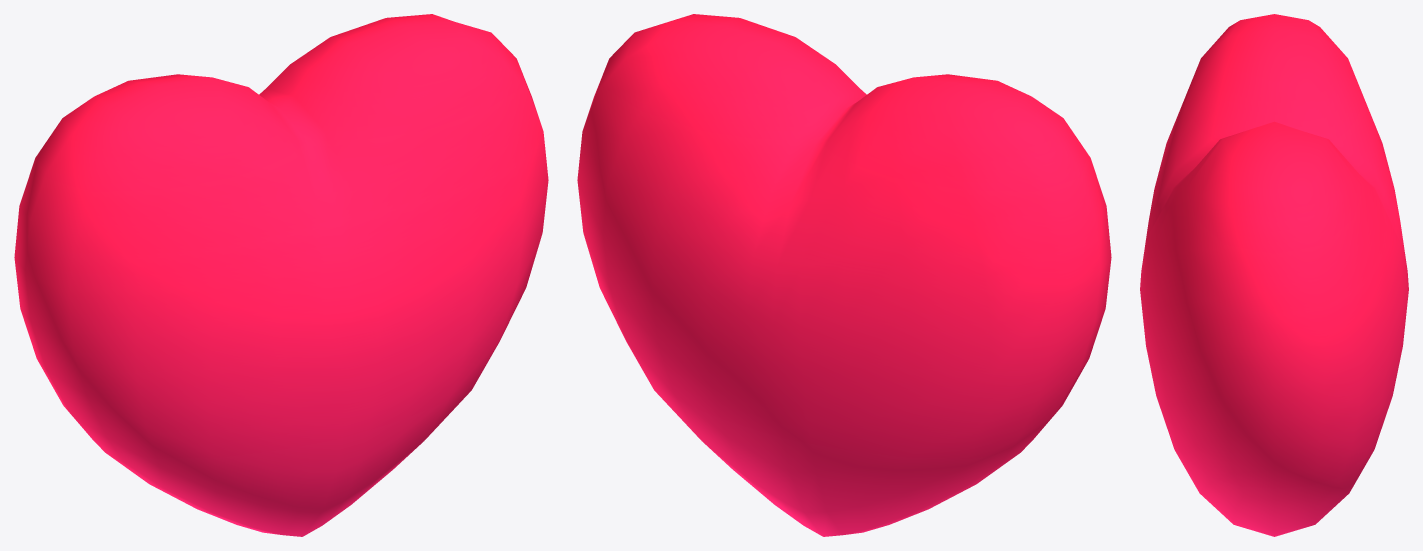
File: Lollipop_07.glb
3 renders of one model, left to right at view 1: azimuth 30°, elevation 25°; view 2: azimuth 150°, elevation 25°; view 3: azimuth 270°, elevation 25°, orthographic. The views are drawn at different scales.
Visible parts, largest first — view 1: Lollipop_07; view 2: Lollipop_07; view 3: Lollipop_07.
Part boxes in pixels (x1=…): Lollipop_07: x1=14, y1=14, x2=548, y2=536; Lollipop_07: x1=577, y1=14, x2=1111, y2=536; Lollipop_07: x1=1140, y1=14, x2=1408, y2=536.
Size of the model in its own units: 3.93 by 3.51 by 1.9.
1 material, 1 textured.
